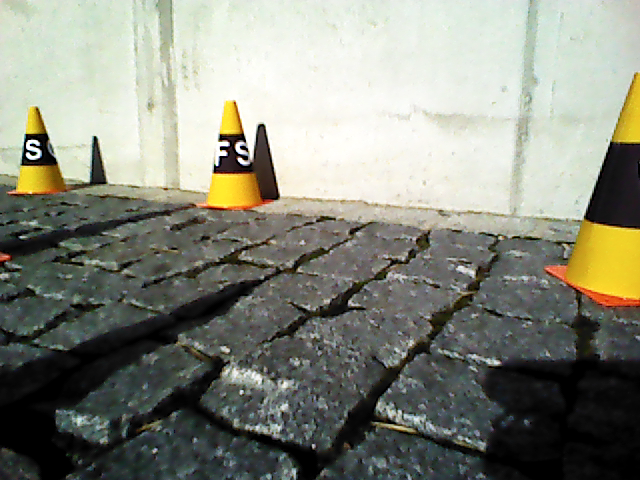yellowcone: (573, 72, 640, 296), (208, 101, 259, 206), (16, 107, 64, 192)
